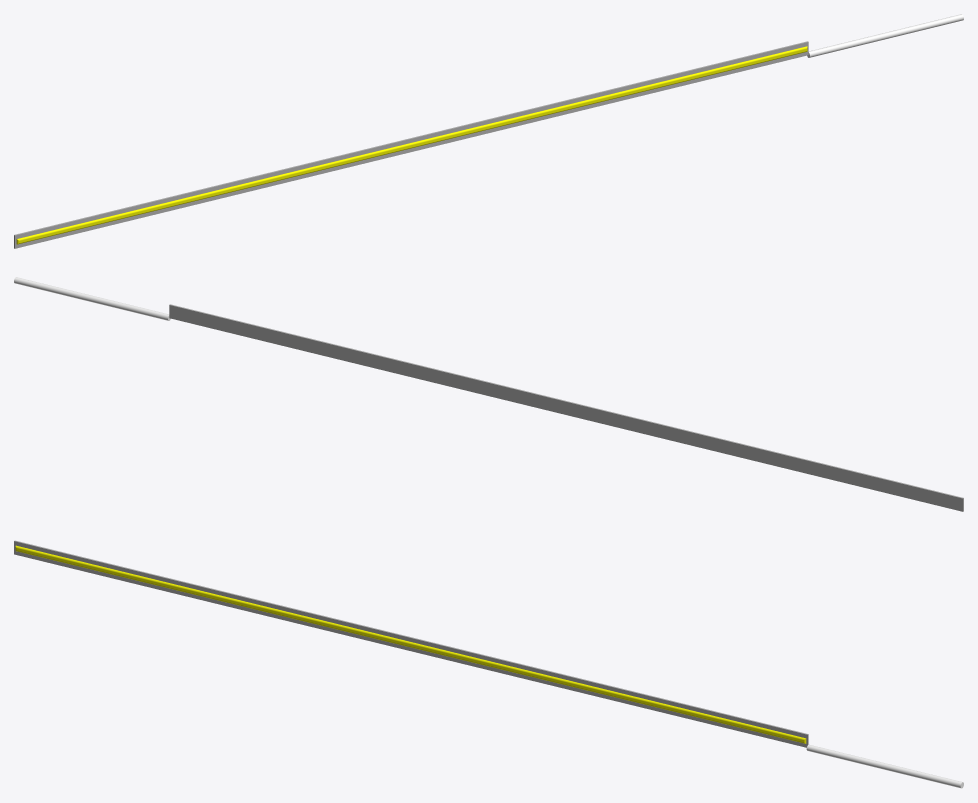
The model's file is led.glb.
3 views of the same model, one above another, from view 1: azimuth 30°, elevation 25°; view 2: azimuth 150°, elevation 25°; view 3: azimuth 330°, elevation 25° (orthographic).
Visible parts, largest first — view 1: led.SLDPRT; view 2: led.SLDPRT; view 3: led.SLDPRT.
Part boxes in pixels (x1=…): led.SLDPRT: x1=14, y1=14, x2=963, y2=248; led.SLDPRT: x1=14, y1=277, x2=963, y2=511; led.SLDPRT: x1=14, y1=540, x2=963, y2=788.
Bounding box in the file's own units: 0.597 × 0.00977 × 0.00355.
